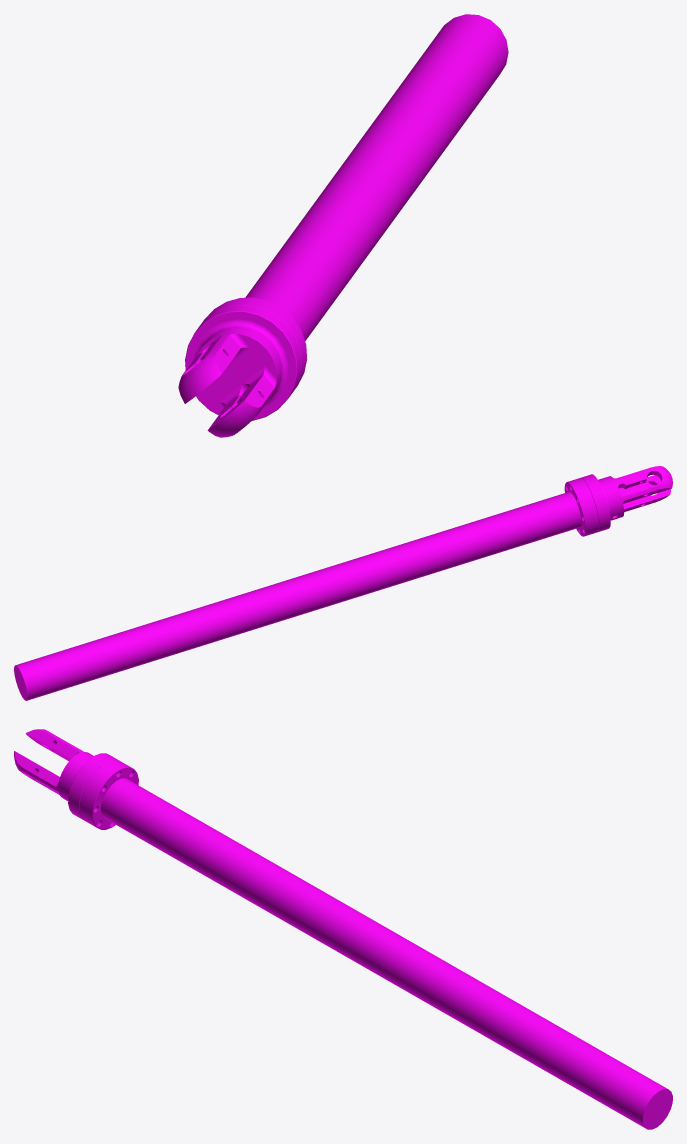
The model's file is PistonLeft.obj.
The picture shows the model from 3 angles, top to bottom: view 1: azimuth 30°, elevation 25°; view 2: azimuth 150°, elevation 25°; view 3: azimuth 270°, elevation 25°; orthographic projection. The views are drawn at different scales.
Parts seen in each view (by area): view 1: 1200_derived_Rod.stp; view 2: 1200_derived_Rod.stp; view 3: 1200_derived_Rod.stp.
Part boxes in pixels (box(x1,y1,x2,y2)): 1200_derived_Rod.stp: box(178, 14, 508, 437); 1200_derived_Rod.stp: box(14, 466, 672, 700); 1200_derived_Rod.stp: box(14, 729, 672, 1129).
Bounding box in the file's own units: 0.7601 × 0.2499 × 0.8673.
